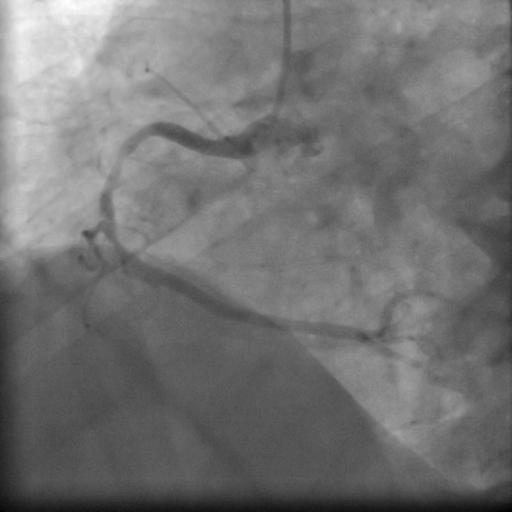Stenosis: (97, 144, 132, 248)
